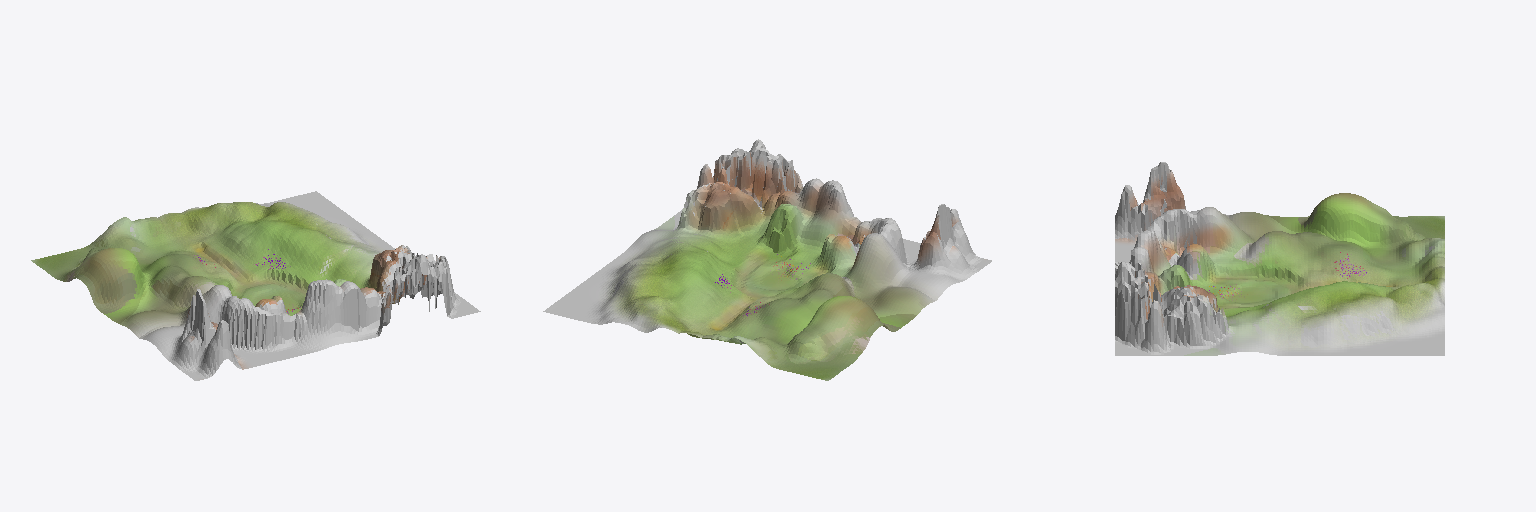
3 renders of one model, left to right at view 1: azimuth 30°, elevation 25°; view 2: azimuth 150°, elevation 25°; view 3: azimuth 270°, elevation 25°, orthographic.
Parts seen in each view (by area): view 1: Plane; view 2: Plane; view 3: Plane.
Part boxes in pixels (x1,y1,x2,y2): Plane: (31,191,480,380); Plane: (543,139,991,380); Plane: (1115,162,1444,355).
Size of the model in its own units: 99.85 by 24.75 by 99.85.
Materials: 1 (1 with a texture image).